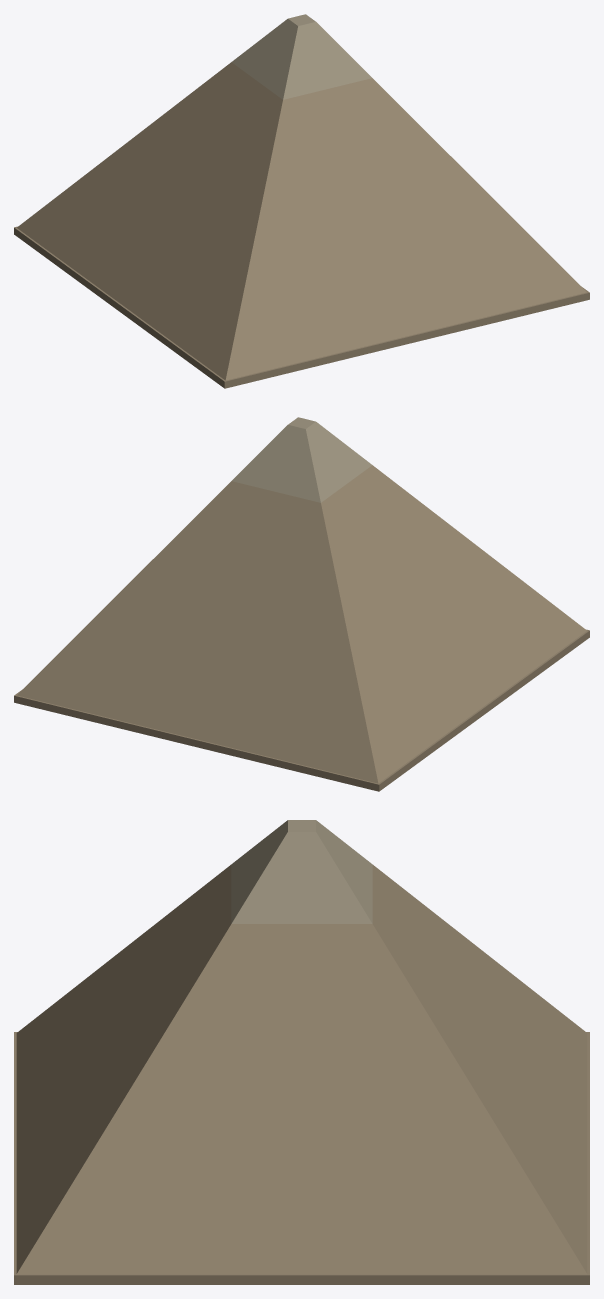
File: pyramid_of_khafre-r3-lod1.glb
3 views of the same model, one above another, from view 1: azimuth 30°, elevation 25°; view 2: azimuth 150°, elevation 25°; view 3: azimuth 270°, elevation 25° (orthographic). The views are drawn at different scales.
Visible parts, largest first — view 1: Giza limestone core blocks, Tura limestone casing; view 2: Giza limestone core blocks, Tura limestone casing; view 3: Giza limestone core blocks, Tura limestone casing.
Boxes of the visible parts, left/top/right/bottom form: Giza limestone core blocks: left=14, top=62, right=589, bottom=388; Tura limestone casing: left=231, top=14, right=371, bottom=99; Giza limestone core blocks: left=14, top=465, right=589, bottom=791; Tura limestone casing: left=232, top=417, right=372, bottom=502; Giza limestone core blocks: left=14, top=865, right=589, bottom=1284; Tura limestone casing: left=231, top=820, right=372, bottom=923.
Size of the model in its own units: 217 by 140 by 217.
